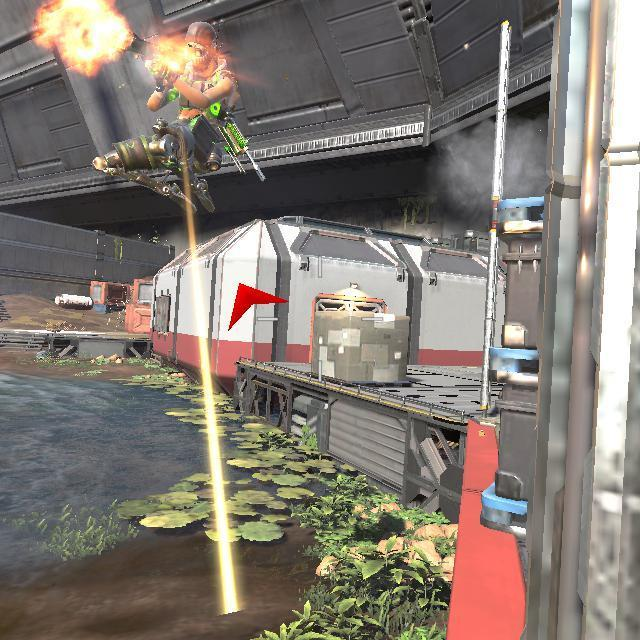avatar: (89, 15, 245, 220)
